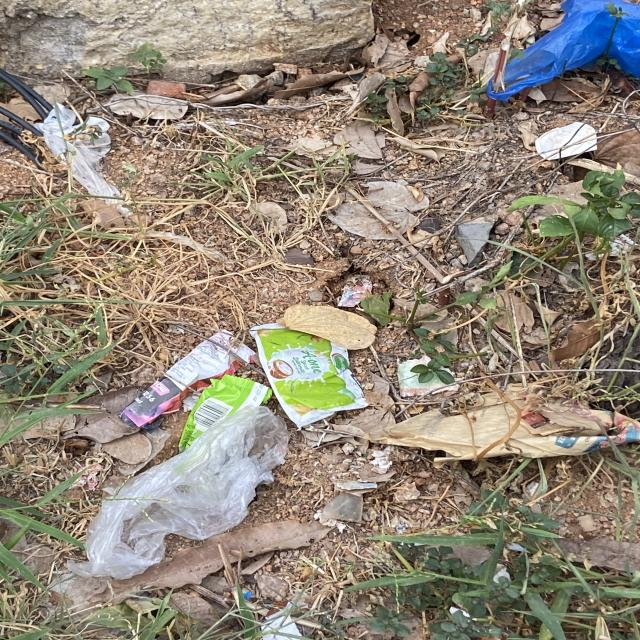giay: (374, 386, 640, 468), (119, 330, 254, 428)
nhua: (66, 407, 288, 580), (487, 0, 640, 100), (250, 323, 367, 428), (178, 375, 272, 453)
